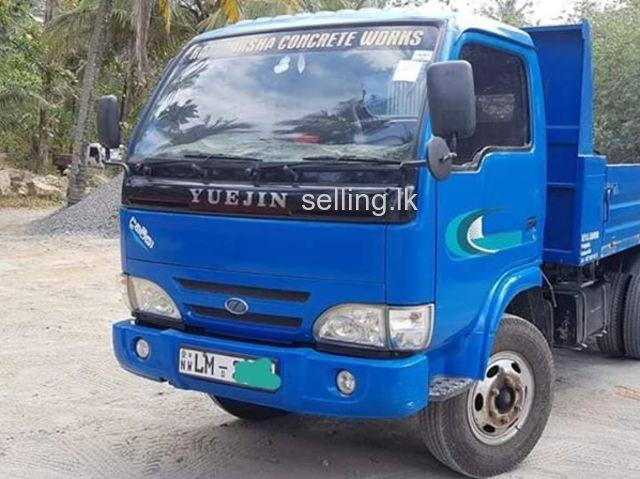truck: (96, 6, 640, 479)
